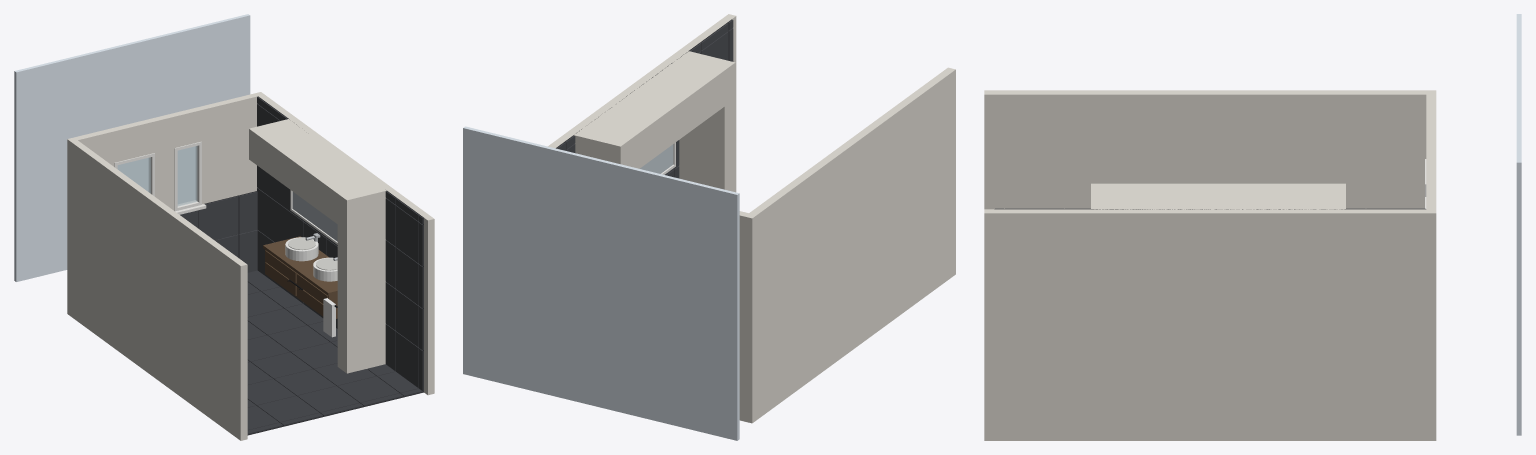
Rendered from bathroom_open.obj.
3 renders of one model, left to right at view 1: azimuth 30°, elevation 25°; view 2: azimuth 150°, elevation 25°; view 3: azimuth 270°, elevation 25°, orthographic. The views are drawn at different scales.
Parts seen in each view (by area): view 1: plaster_008, sky_001, plaster_011, plaster_010, plaster_007, plaster_009, plaster_004, plaster_001, plaster_003, tile_wall_064, glass_002, vanity_wood_002 (+35 smaller); view 2: sky_001, plaster_008, plaster_010, plaster_011, plaster_001, plaster_009, mirror_001, tile_wall_034; view 3: plaster_009, plaster_008, plaster_010, plaster_007, sky_001, plaster_011.
Boxes of the visible parts, x1,y1,x2,y2 form: plaster_008: [67, 140, 247, 440]; sky_001: [14, 14, 250, 281]; plaster_011: [337, 184, 386, 373]; plaster_010: [249, 119, 377, 223]; plaster_007: [198, 92, 264, 204]; plaster_009: [255, 92, 434, 395]; plaster_004: [151, 114, 174, 210]; plaster_001: [67, 128, 114, 316]; plaster_003: [111, 118, 154, 162]; tile_wall_064: [198, 196, 238, 240]; glass_002: [177, 146, 197, 206]; vanity_wood_002: [263, 236, 337, 295]; sky_001: [463, 126, 739, 440]; plaster_008: [744, 67, 955, 422]; plaster_010: [574, 59, 724, 168]; plaster_011: [678, 51, 735, 192]; plaster_001: [739, 211, 756, 423]; plaster_009: [548, 14, 736, 191]; mirror_001: [640, 144, 673, 173]; tile_wall_034: [701, 31, 728, 60]; plaster_009: [984, 209, 1436, 440]; plaster_008: [984, 90, 1435, 209]; plaster_010: [1115, 183, 1345, 209]; plaster_007: [1426, 173, 1436, 440]; sky_001: [1516, 14, 1521, 435]; plaster_011: [1091, 183, 1114, 209].
Bounding box in the file's own units: 3.5 × 3.2 × 5.35.
